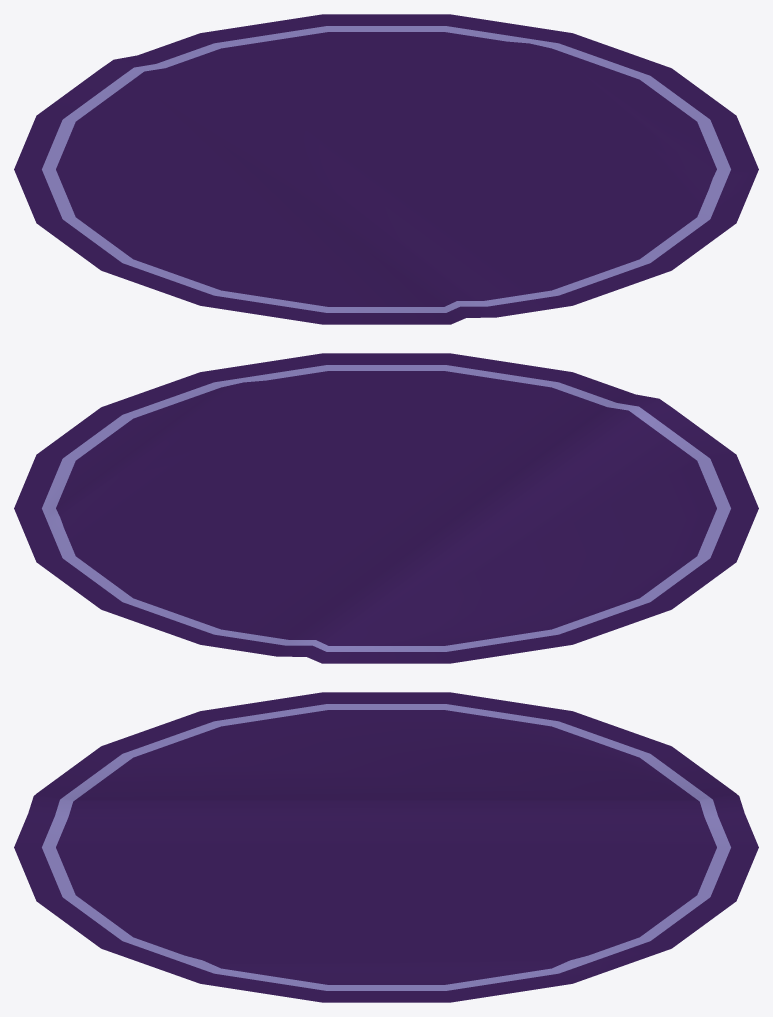
File: Carpet.fbx
3 views of the same model, one above another, from view 1: azimuth 30°, elevation 25°; view 2: azimuth 150°, elevation 25°; view 3: azimuth 270°, elevation 25° (orthographic).
Parts seen in each view (by area): view 1: Carpet_Round; view 2: Carpet_Round; view 3: Carpet_Round.
Part boxes in pixels (x1,y1,x2,y2): Carpet_Round: [14, 14, 758, 324]; Carpet_Round: [14, 353, 758, 663]; Carpet_Round: [14, 692, 758, 1002].
Size of the model in its own units: 2.49 by 0.0157 by 2.53.
